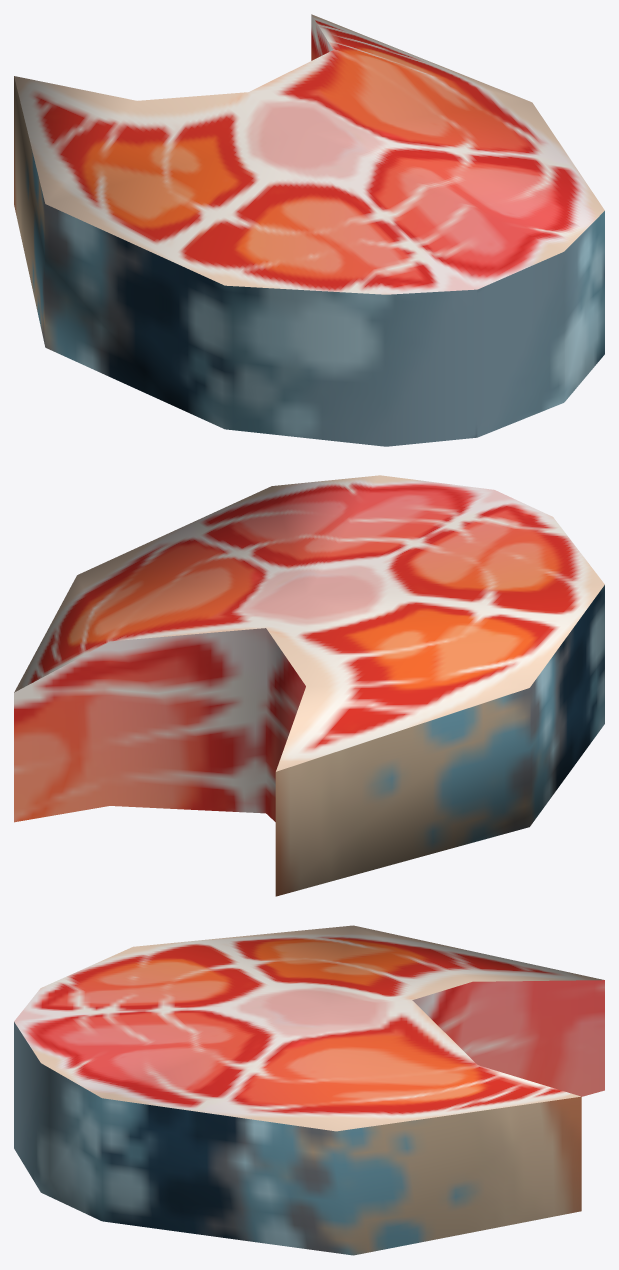
File: SM_PROP_food_fish_01.FBX
The picture shows the model from 3 angles, top to bottom: view 1: azimuth 30°, elevation 25°; view 2: azimuth 150°, elevation 25°; view 3: azimuth 270°, elevation 25°; orthographic projection. The views are drawn at different scales.
Parts seen in each view (by area): view 1: SM_PROP_food_fish_01; view 2: SM_PROP_food_fish_01; view 3: SM_PROP_food_fish_01.
Part boxes in pixels (<box>): SM_PROP_food_fish_01: <box>14,14,604,446</box>; SM_PROP_food_fish_01: <box>14,475,604,896</box>; SM_PROP_food_fish_01: <box>14,925,604,1255</box>.
Bounding box in the file's own units: 31.86 × 38.46 × 11.77.
